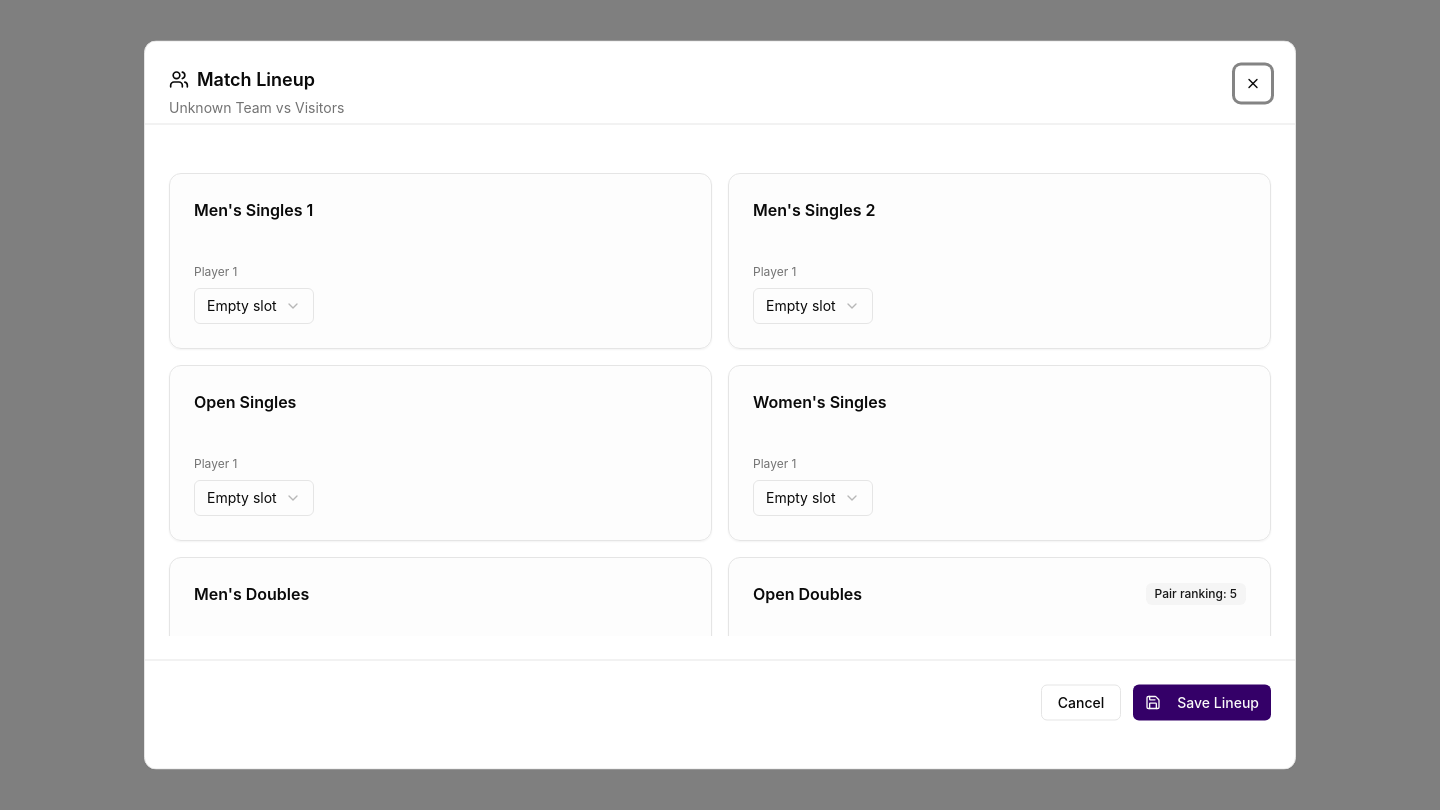
Test: Match Lineup editor › keeps structured backend violations visible against the local draft
Click the button "Save Lineup": coordinates (1202, 702) [1133,684,1271,720]
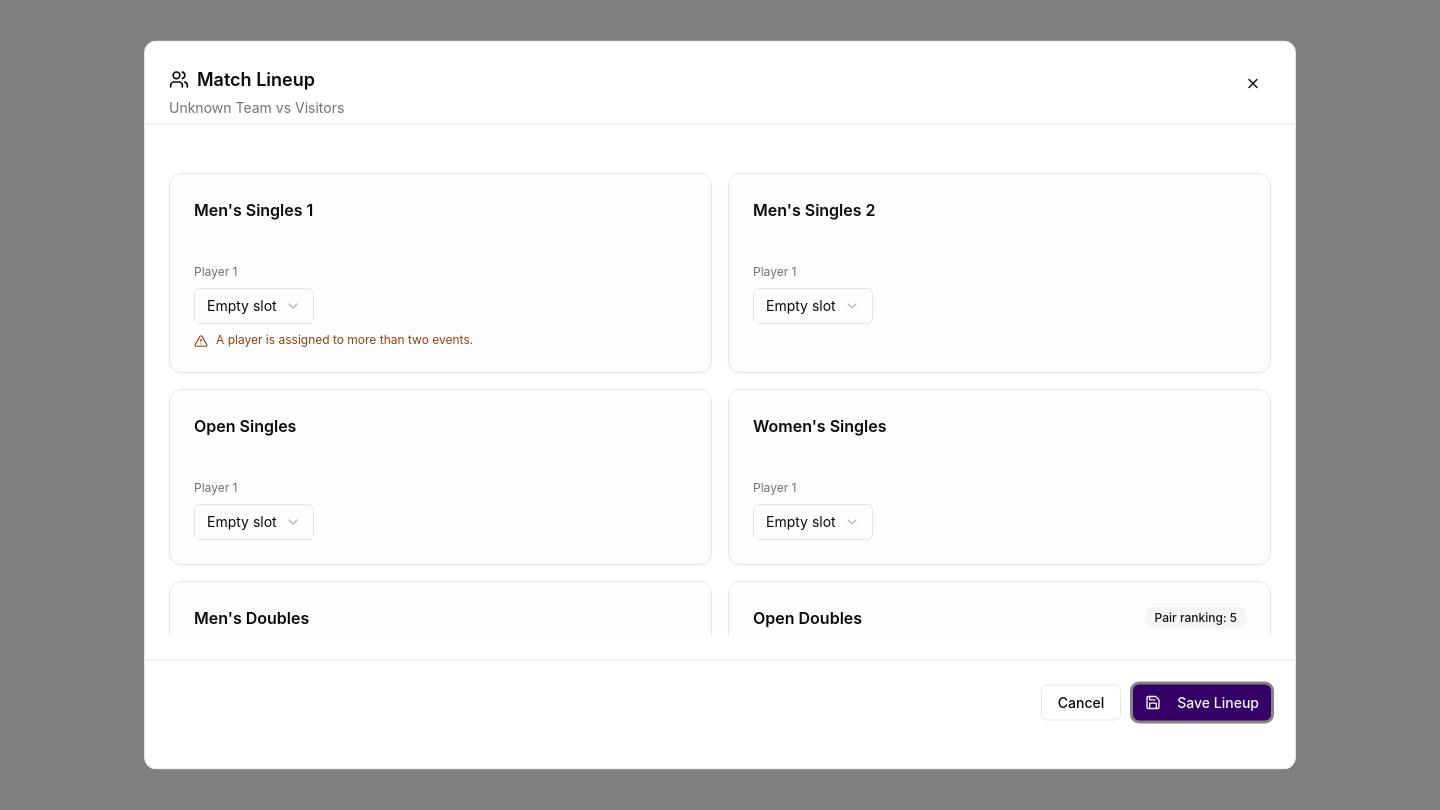
Check: the text "A player is assigned to more than two events." is shown, box [194,332,473,348]
